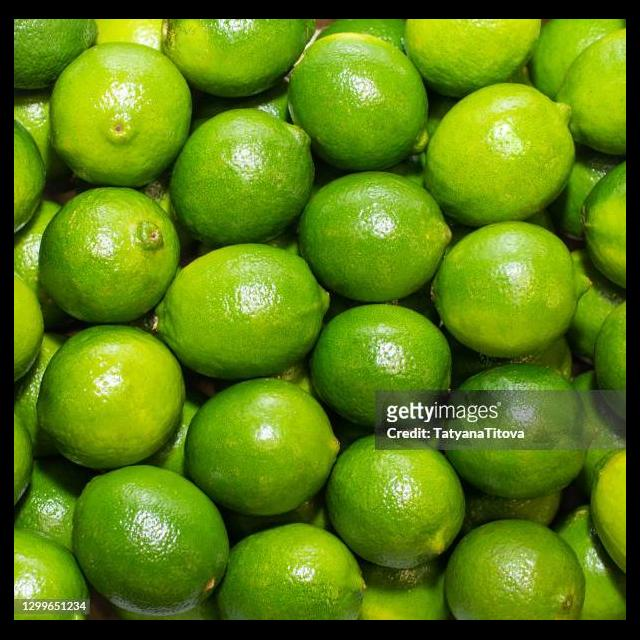lime: (152, 244, 330, 384), (74, 468, 232, 618), (423, 82, 576, 232), (183, 378, 341, 518), (37, 326, 187, 472), (172, 110, 316, 254), (300, 172, 452, 306), (435, 366, 587, 500), (55, 46, 194, 192), (440, 222, 579, 364), (39, 188, 179, 328), (323, 438, 468, 572), (310, 304, 453, 434), (290, 38, 430, 168), (218, 524, 367, 620), (444, 520, 585, 620), (166, 20, 307, 100), (405, 20, 541, 102)
